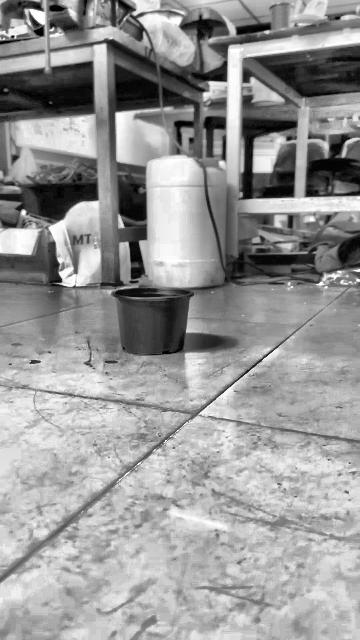pot: (111, 287, 193, 354)
